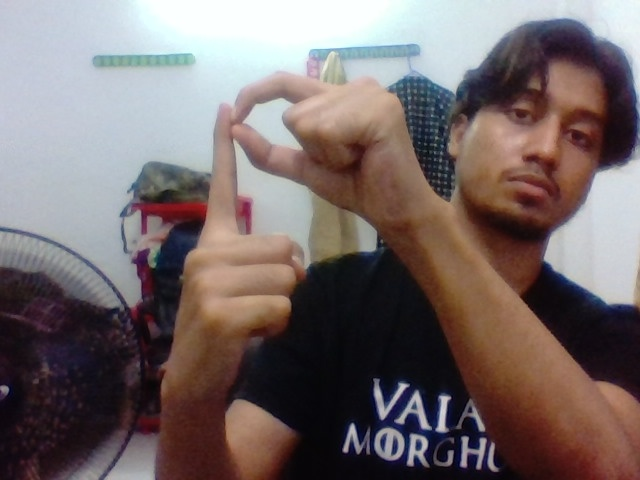P: (178, 62, 379, 330)
